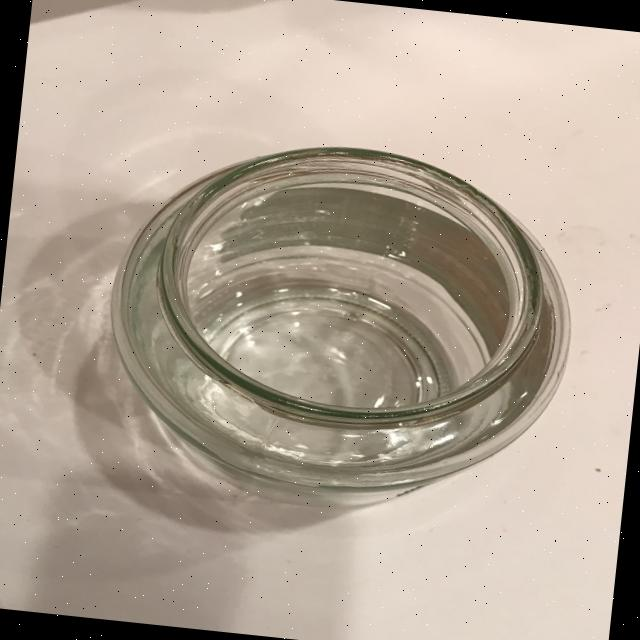glass: (91, 122, 588, 523)
